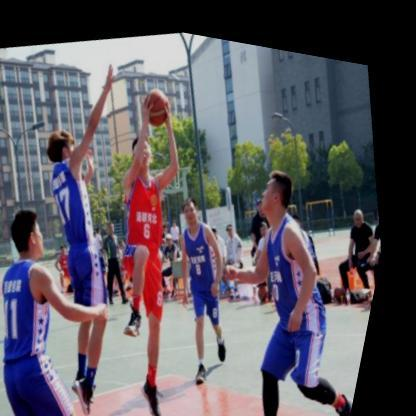basketball: (145, 79, 177, 124)
